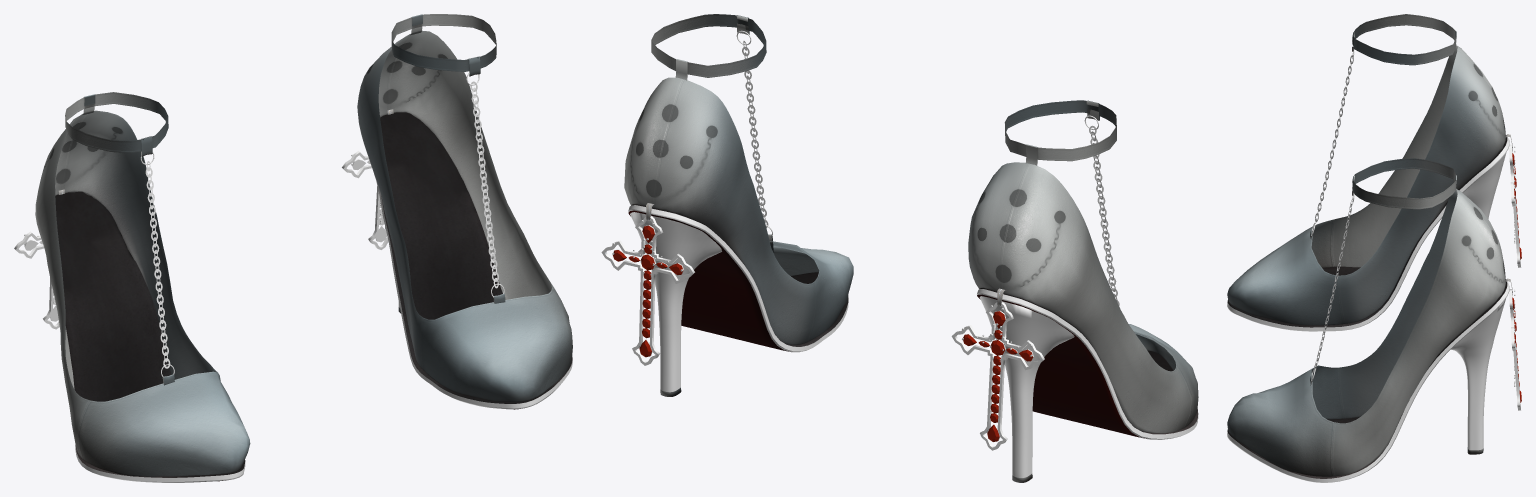
File: Holy Matrimony FBX blender.fbx
3 renders of one model, left to right at view 1: azimuth 30°, elevation 25°; view 2: azimuth 150°, elevation 25°; view 3: azimuth 270°, elevation 25°, orthographic. The views are drawn at different scales.
Visible parts, largest first — view 1: Holy Matrimony Heels Zinfit TTW; view 2: Holy Matrimony Heels Zinfit TTW; view 3: Holy Matrimony Heels Zinfit TTW.
Part boxes in pixels (x1,y1,x2,y2): Holy Matrimony Heels Zinfit TTW: (14,14,572,482); Holy Matrimony Heels Zinfit TTW: (601,14,1198,482); Holy Matrimony Heels Zinfit TTW: (1227,14,1521,482).
Size of the model in its own units: 0.2366 by 0.1405 by 0.1372.
Materials: 1 (1 with a texture image).
